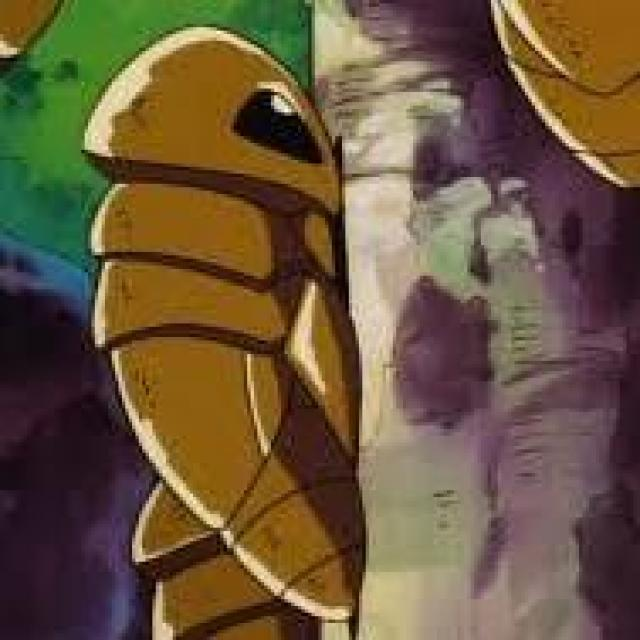Kakuna: (77, 20, 393, 596)
